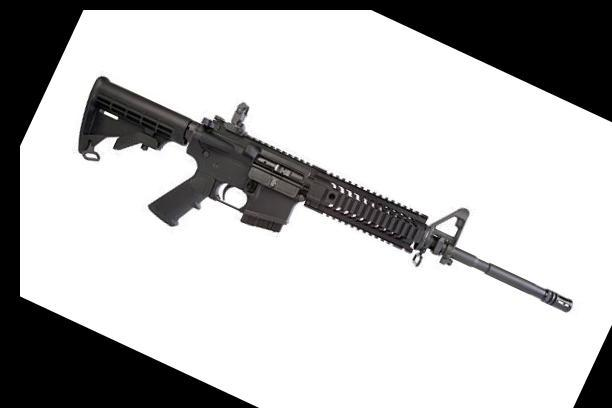larga: (76, 75, 572, 313)
